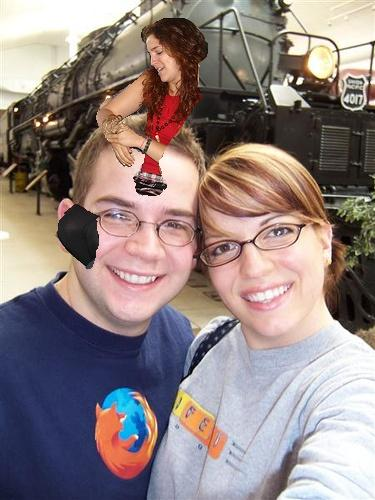tampered: (56, 19, 208, 269)
